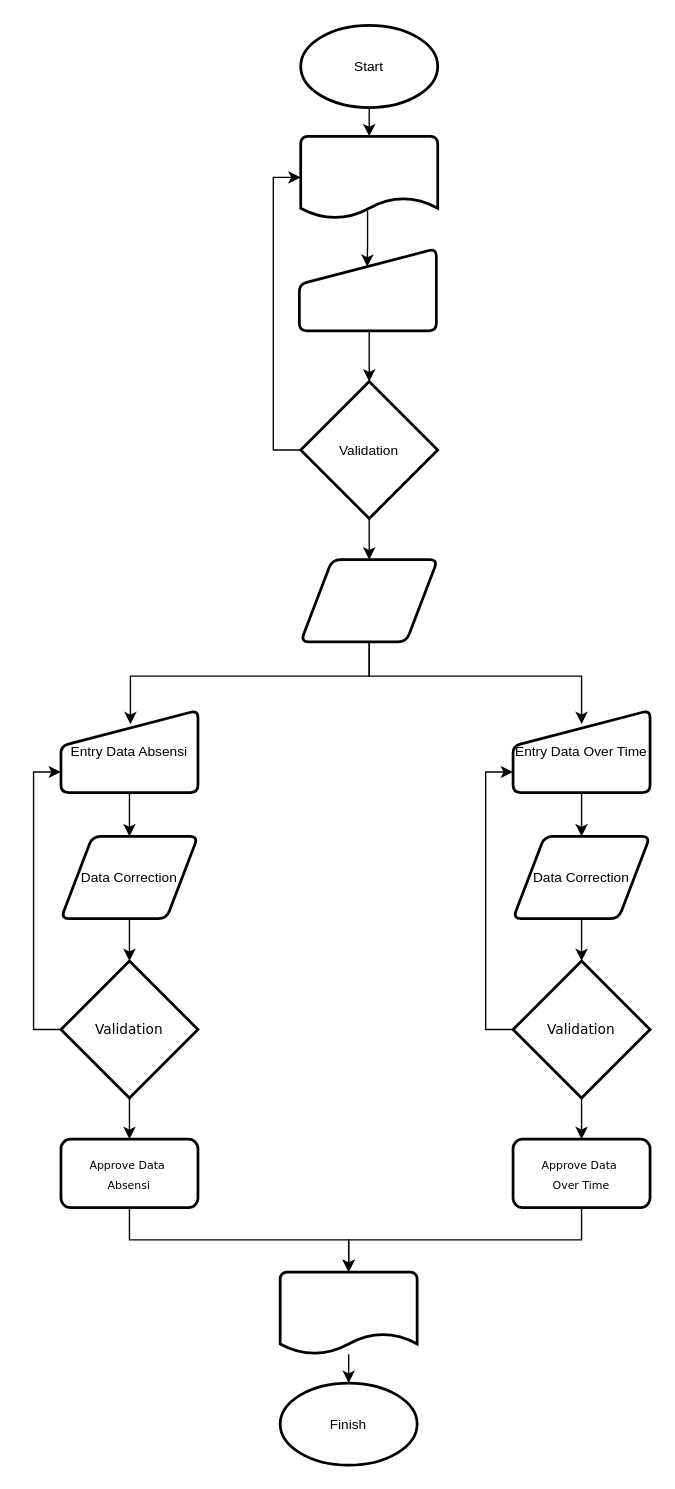
The diagram is 675 pixels wide and 1489 high, and some of its shapes have lost their labels. Each missing label, with the box of its shape:
Approve Data Employee: (299, 558, 438, 643)
Entry Data Employee: (297, 247, 437, 332)
New Data Employee: (299, 134, 438, 219)
Reports: (278, 1270, 418, 1355)
